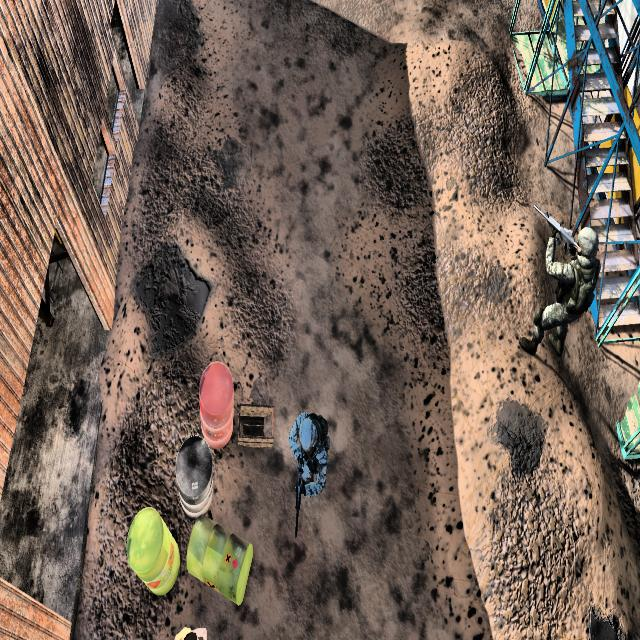bad: (518, 188, 600, 387), (284, 390, 337, 538)
good: (170, 613, 209, 640)
